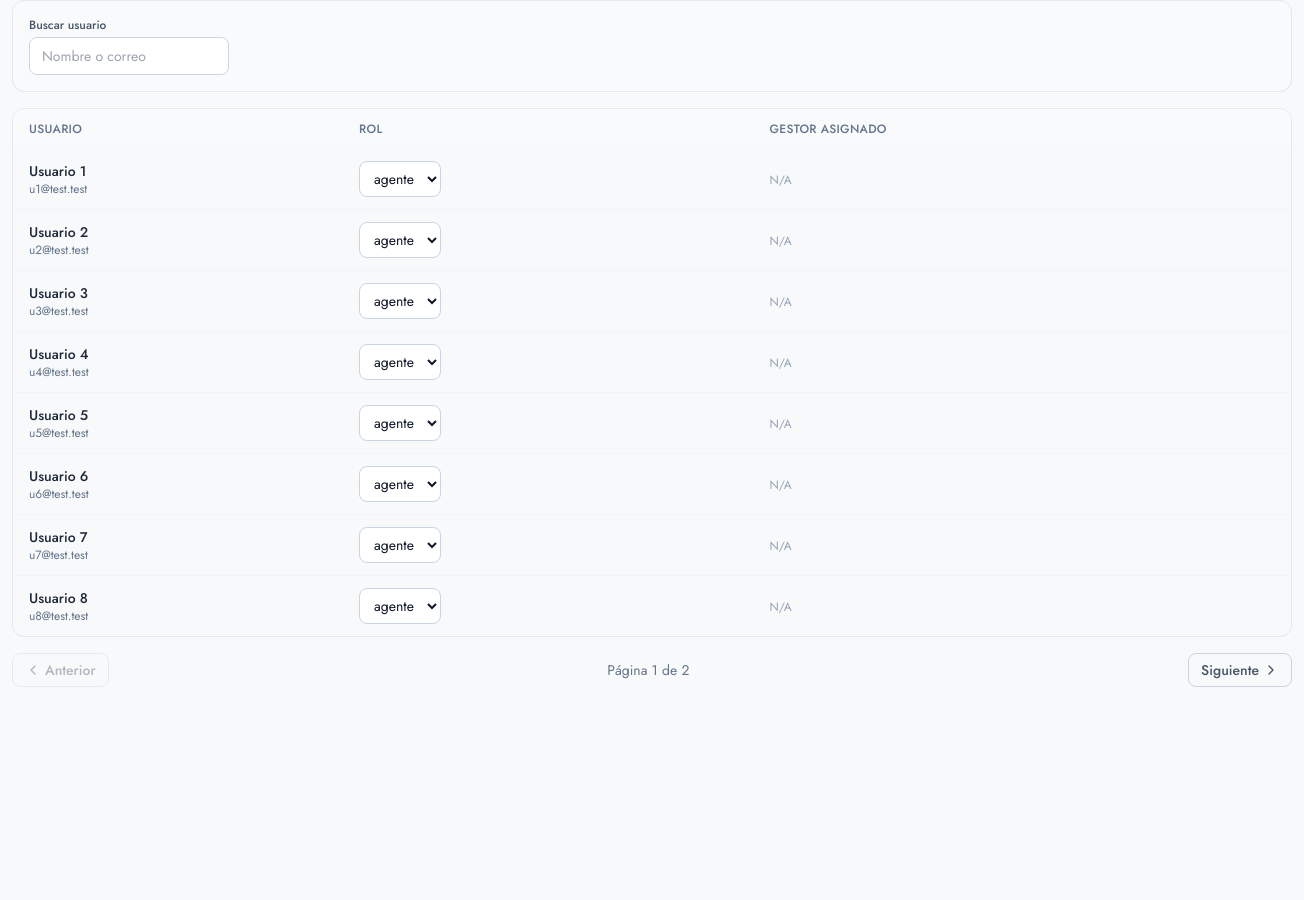
Test: AdminUserTable › filtra por nombre o correo
This screenshot has width=1304, height=900.
Check: the text "Usuario 1" is shown, box [29,161,86,181]
Type "Usuario 9" into the search field labelled "Buscar usuario".
click(129, 56); type("Usuario 9")  # box [29,37,229,75]
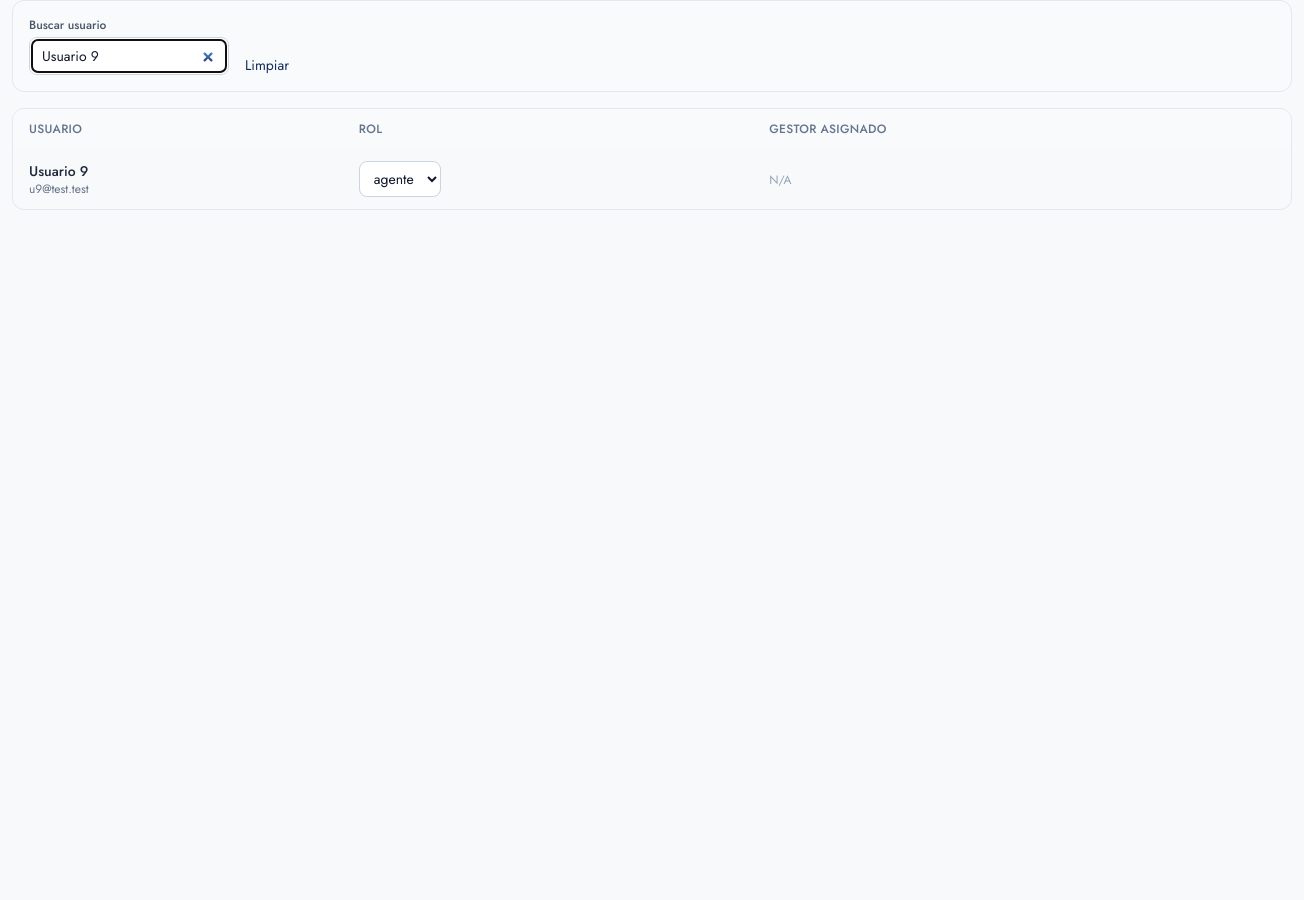
Check: the text "Usuario 9" is shown, box [29,161,88,181]
Check: the text "Usuario 1" is gone
